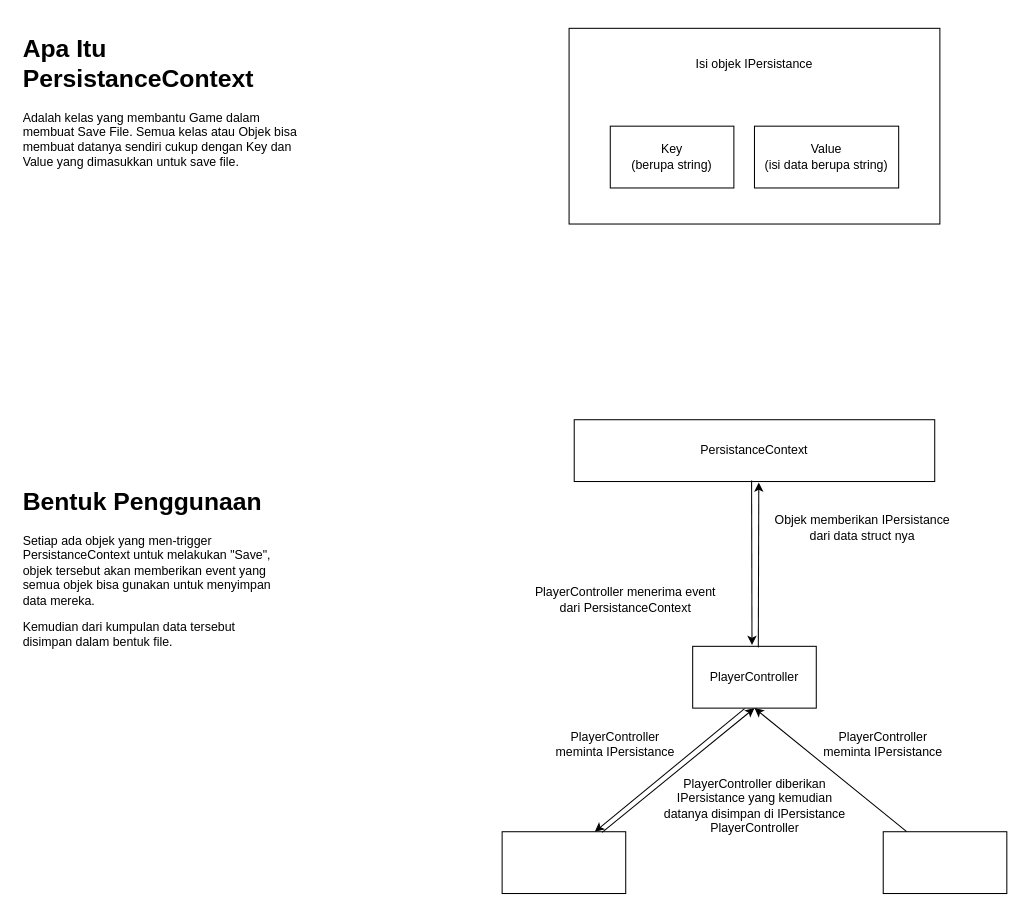
This 1025x912 diagram has some shape labels left out. Each missing label, with the centre of its shape:
HealthComponent: (563,862)
InventoryData: (944,862)
